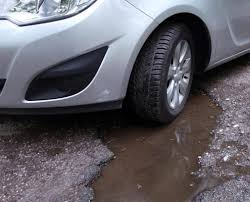pothole: (90, 125, 250, 200), (194, 85, 241, 125)
